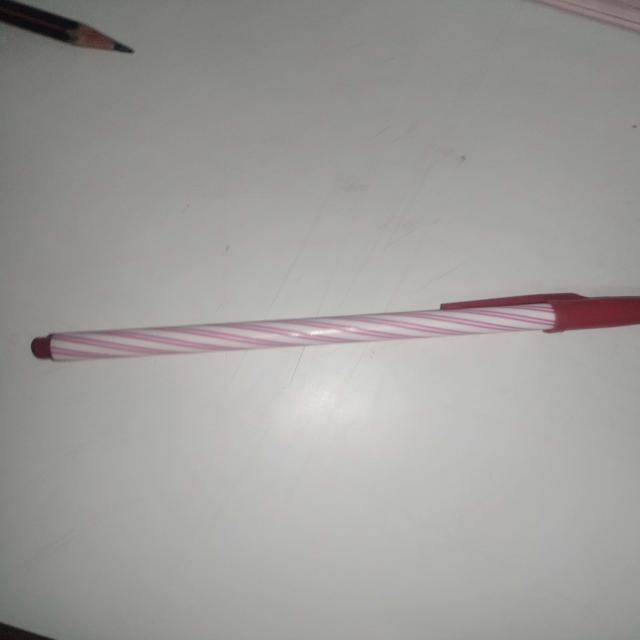pen_pencil: (13, 282, 640, 420)
